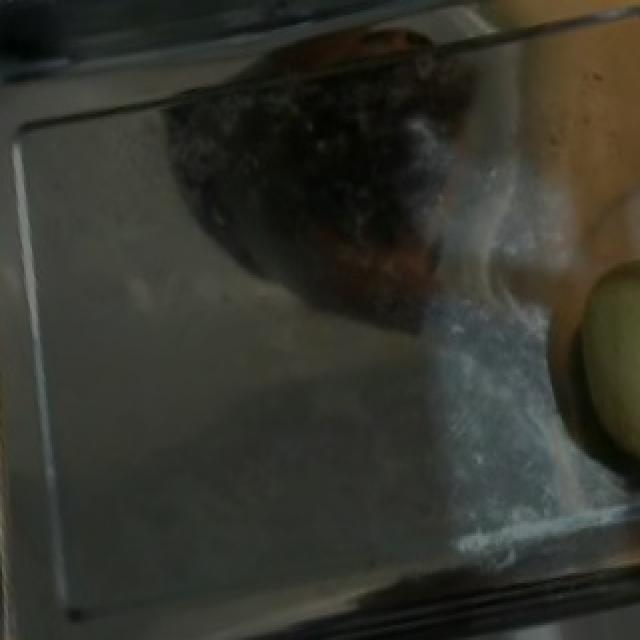Fruit: (512, 233, 640, 506)
